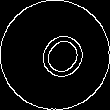O_SW: (22, 22, 88, 88)
